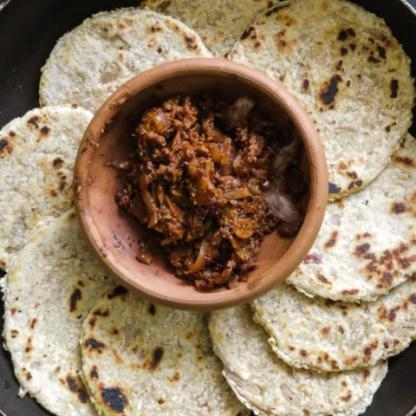roti: (228, 0, 414, 203), (3, 206, 119, 415), (284, 132, 415, 303), (79, 284, 248, 415), (210, 296, 388, 415), (39, 8, 214, 119), (250, 274, 415, 372), (0, 104, 94, 273), (140, 0, 287, 59)
